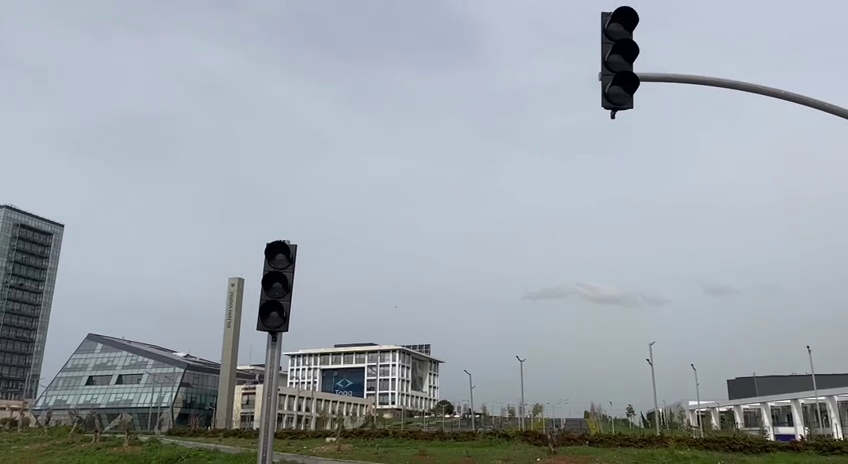trafficLight: (595, 3, 643, 123), (253, 236, 301, 340)
